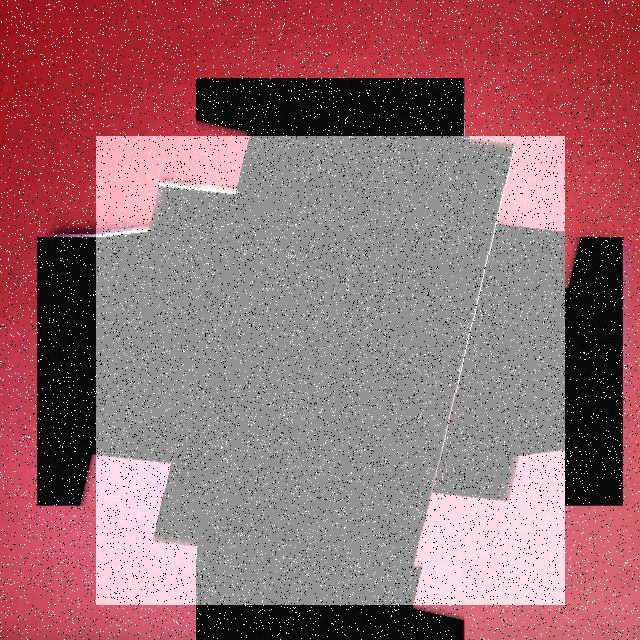lima puluh ribu rupiah: (96, 136, 565, 605)
